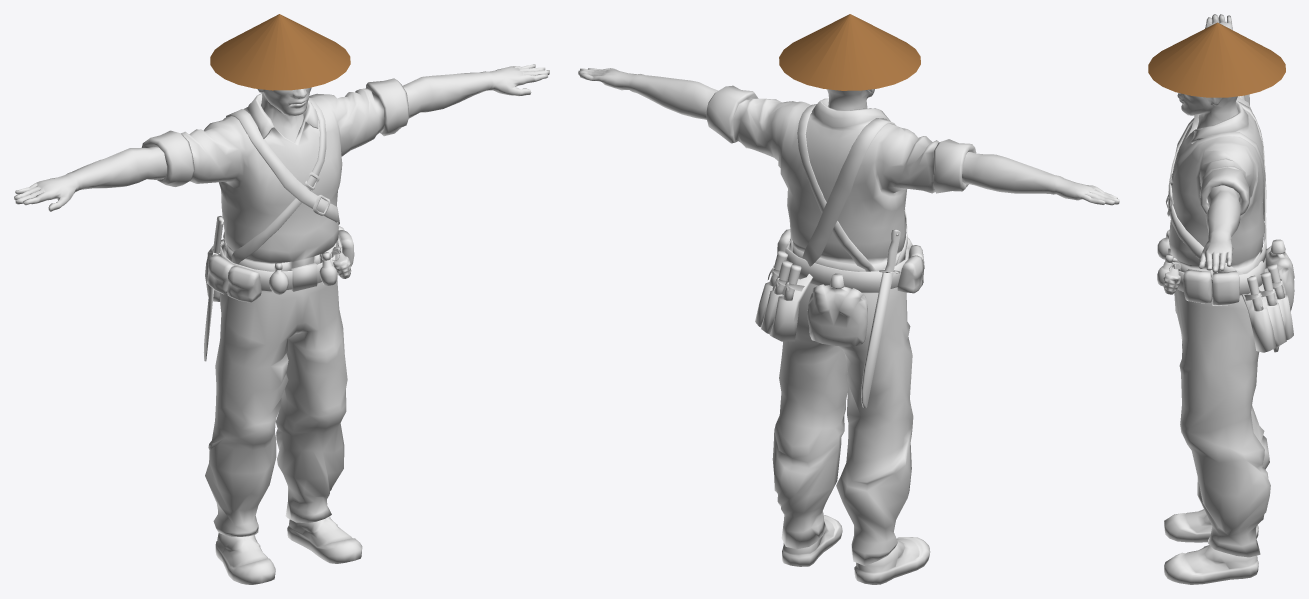
File: Enemie.fbx
3 renders of one model, left to right at view 1: azimuth 30°, elevation 25°; view 2: azimuth 150°, elevation 25°; view 3: azimuth 270°, elevation 25°, orthographic. The views are drawn at different scales.
Visible parts, largest first — view 1: Soldier; view 2: Soldier; view 3: Soldier.
Boxes of the visible parts, x1,y1,x2,y2 form: Soldier: (14,14,549,584); Soldier: (578,14,1119,584); Soldier: (1148,14,1294,584).
Bounding box in the file's own units: 19513 × 18915 × 4726.
